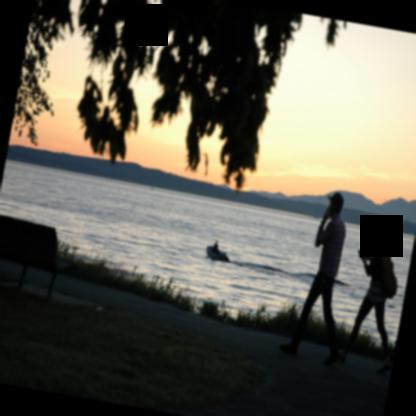backpack: (377, 242, 398, 299)
handbag: (386, 260, 397, 299)
